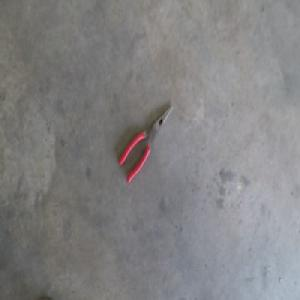Pliers: (117, 105, 173, 185)
